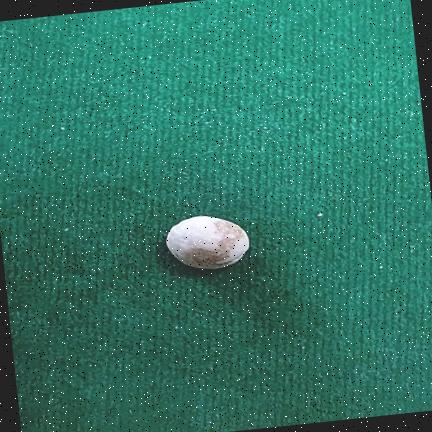husk: (166, 216, 249, 269)
